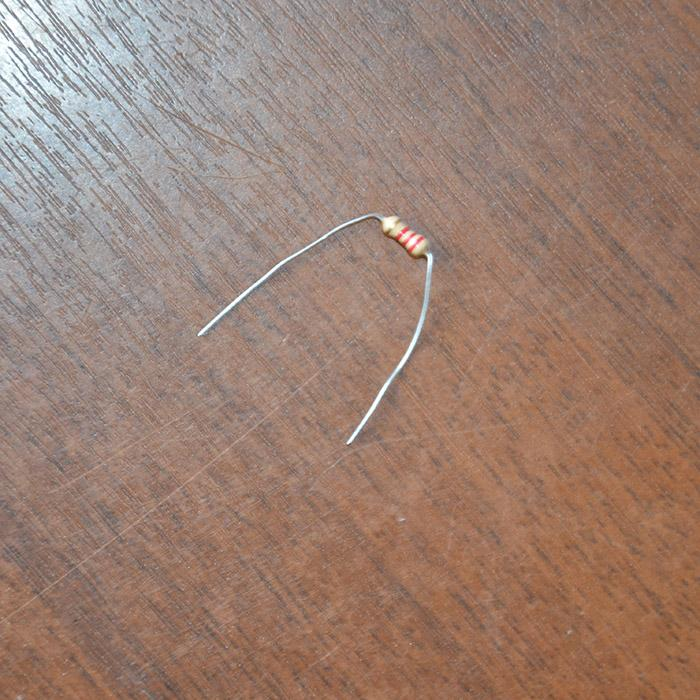resistor: (381, 215, 429, 259)
